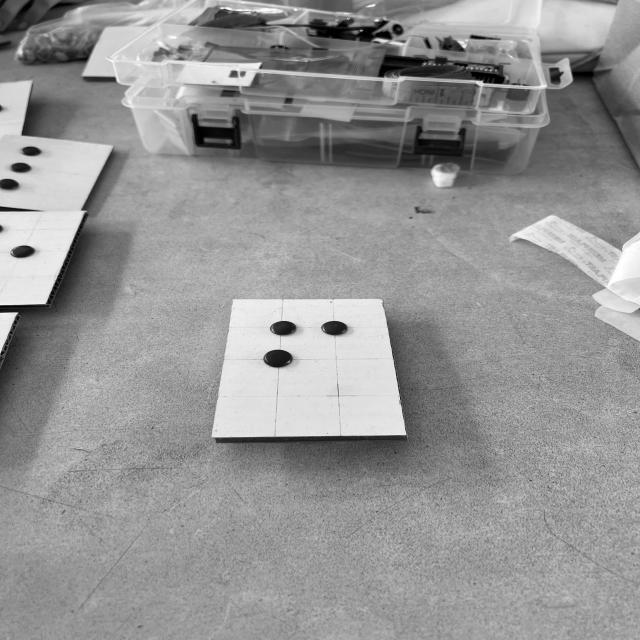braiile: (218, 300, 407, 431)
